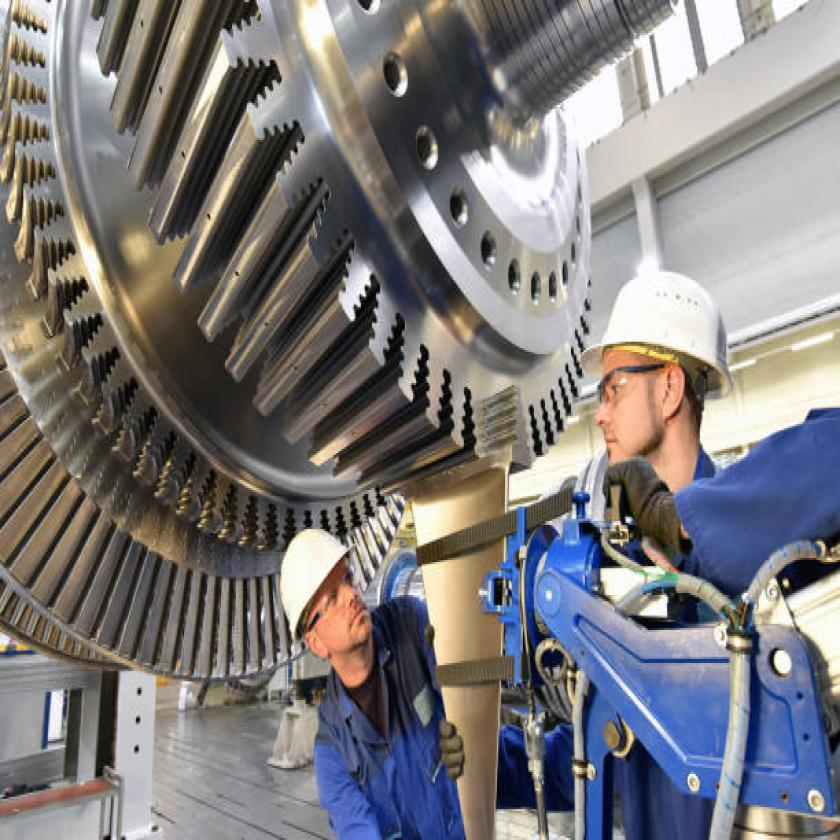Con_casco: (594, 242, 740, 479), (269, 515, 384, 711)
